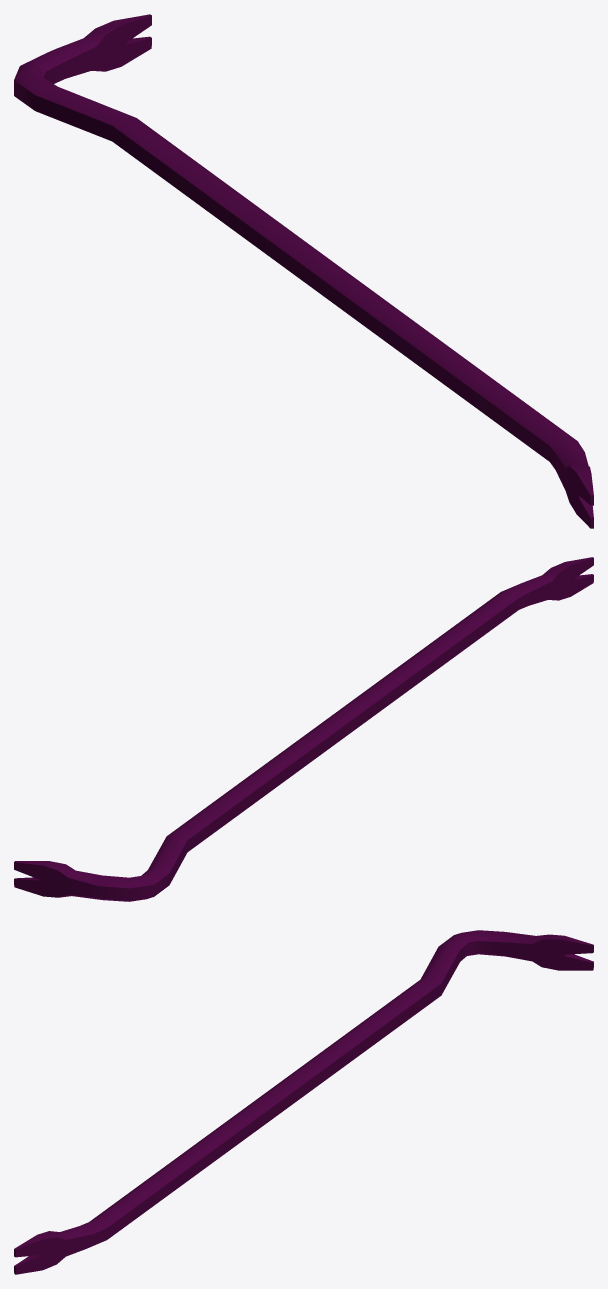
File: Workshop_Tool2.fbx
3 views of the same model, one above another, from view 1: azimuth 30°, elevation 25°; view 2: azimuth 150°, elevation 25°; view 3: azimuth 330°, elevation 25° (orthographic). The views are drawn at different scales.
Parts seen in each view (by area): view 1: Workshop_Tool2; view 2: Workshop_Tool2; view 3: Workshop_Tool2.
Boxes of the visible parts, <box> form: Workshop_Tool2: <box>14,14,593,528</box>; Workshop_Tool2: <box>14,557,593,901</box>; Workshop_Tool2: <box>14,930,593,1274</box>.
Bounding box in the file's own units: 14.03 × 3.42 × 89.99.
